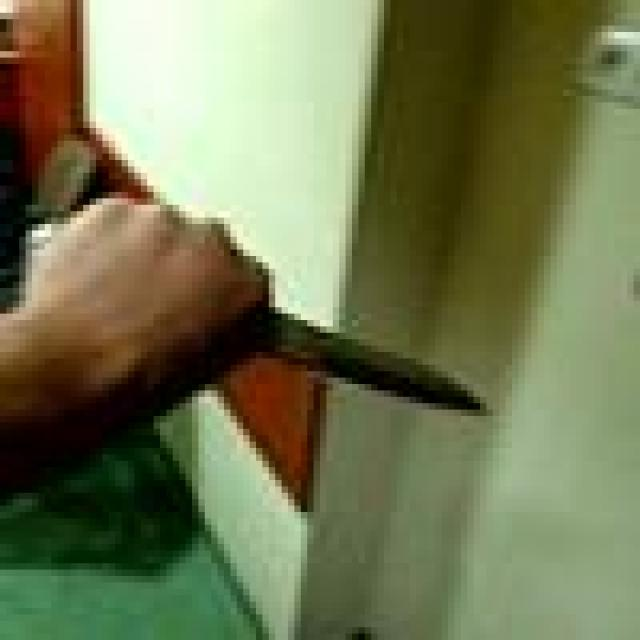weapon: (0, 186, 506, 448)
